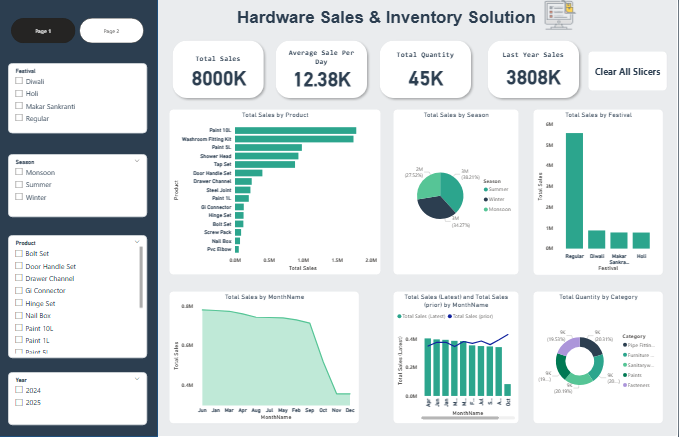

What the dashboard file says about the page in this screenshot:
{"tool":"powerbi","page":{"name":"Page 1","canvas":[1700,1100],"ordinal":0},"visuals":[{"type":"shape","box":[428.6,100,245.7,161.4],"z":0},{"type":"card","fields":{"Values":["Hradware Inventory.Total Sales"]},"box":[464.3,157.1,174.3,80],"z":1000},{"type":"shape","box":[0,0,400,1100],"z":2000},{"type":"textbox","box":[485.7,137.1,130,38.6],"z":3000},{"type":"shape","box":[685,100,246.7,161.7],"z":4000},{"type":"shape","box":[1215,100,246.7,161.7],"z":5000},{"type":"shape","box":[945,100,246.7,161.7],"z":6000},{"type":"card","fields":{"Values":["Hradware Inventory.Avg Sale Per Day"]},"box":[693.8,116.2,228.8,162.5],"z":7000},{"type":"textbox","box":[715,121.2,187.5,60],"z":8000},{"type":"card","fields":{"Values":["Hradware Inventory.Total Quantity"]},"box":[1001.2,156.2,133.8,81.2],"z":9000},{"type":"textbox","box":[982.9,128.6,171.4,55.7],"z":10000},{"type":"card","fields":{"Values":["Hradware Inventory.Sales LY"]},"box":[1237,146,202,102],"z":11000},{"type":"textbox","box":[1242,127,191,37],"z":12000},{"type":"clusteredBarChart","fields":{"Y":["Hradware Inventory.Total Sales"],"Category":["Hradware Inventory.Product"]},"box":[420,280,530,415],"z":13000},{"type":"pieChart","fields":{"Y":["Hradware Inventory.Total Sales"],"Category":["Hradware Inventory.Season"]},"box":[987.5,280,315,415],"z":14000},{"type":"clusteredColumnChart","fields":{"Y":["Hradware Inventory.Total Sales"],"Category":["Hradware Inventory.Festival"]},"box":[1338,280,326,416],"z":15000},{"type":"stackedAreaChart","fields":{"Category":["Date.MonthName"],"Y":["Hradware Inventory.Total Sales"]},"box":[428,736,476,332],"z":16000},{"type":"donutChart","fields":{"Y":["Hradware Inventory.Total Quantity"],"Category":["Hradware Inventory.Category"]},"box":[1338,736,326,332],"z":17000},{"type":"textbox","box":[526.2,20,886.2,165],"z":18000},{"type":"slicer","fields":{"Values":["Hradware Inventory.Festival"]},"box":[24,166,348,176],"z":19000},{"type":"slicer","fields":{"Values":["Hradware Inventory.Season"]},"box":[25,392.5,347.5,157.5],"z":20000},{"type":"slicer","fields":{"Values":["Hradware Inventory.Product"]},"box":[25,595,347.5,307.5],"z":21000},{"type":"slicer","fields":{"Values":["Date.Year"]},"box":[25,937.5,347.5,132.5],"z":22000},{"type":"image","box":[1337.5,0,137.5,88.8],"z":23000},{"type":"actionButton","box":[1476,134,198,100],"z":24000},{"type":"pageNavigator","box":[31.7,53.3,333.3,63.3],"z":25000},{"type":"lineStackedColumnComboChart","fields":{"Y":["Hradware Inventory.Total Sales (Latest)"],"Y2":["Hradware Inventory.Total Sales (prior)"],"Category":["Date.MonthName"]},"box":[950,735.7,352.9,331.4],"z":26000}]}

Visuals, with their boxes on the page's 1700x1100 design canvas (x1, y1, x2, y2). These are canvas units, not pixel positions in the 679x437 screenshot, which may show the page scaled, cropped or inside an application window:
shape: [left=429, top=100, right=674, bottom=261]
card - Hradware Inventory.Total Sales: [left=464, top=157, right=639, bottom=237]
shape: [left=0, top=0, right=400, bottom=1100]
textbox: [left=486, top=137, right=616, bottom=176]
shape: [left=685, top=100, right=932, bottom=262]
shape: [left=1215, top=100, right=1462, bottom=262]
shape: [left=945, top=100, right=1192, bottom=262]
card - Hradware Inventory.Avg Sale Per Day: [left=694, top=116, right=923, bottom=279]
textbox: [left=715, top=121, right=902, bottom=181]
card - Hradware Inventory.Total Quantity: [left=1001, top=156, right=1135, bottom=237]
textbox: [left=983, top=129, right=1154, bottom=184]
card - Hradware Inventory.Sales LY: [left=1237, top=146, right=1439, bottom=248]
textbox: [left=1242, top=127, right=1433, bottom=164]
clusteredBarChart - Hradware Inventory.Total Sales x Hradware Inventory.Product: [left=420, top=280, right=950, bottom=695]
pieChart - Hradware Inventory.Total Sales x Hradware Inventory.Season: [left=988, top=280, right=1302, bottom=695]
clusteredColumnChart - Hradware Inventory.Total Sales x Hradware Inventory.Festival: [left=1338, top=280, right=1664, bottom=696]
stackedAreaChart - Date.MonthName x Hradware Inventory.Total Sales: [left=428, top=736, right=904, bottom=1068]
donutChart - Hradware Inventory.Total Quantity x Hradware Inventory.Category: [left=1338, top=736, right=1664, bottom=1068]
textbox: [left=526, top=20, right=1412, bottom=185]
slicer - Hradware Inventory.Festival: [left=24, top=166, right=372, bottom=342]
slicer - Hradware Inventory.Season: [left=25, top=392, right=372, bottom=550]
slicer - Hradware Inventory.Product: [left=25, top=595, right=372, bottom=902]
slicer - Date.Year: [left=25, top=938, right=372, bottom=1070]
image: [left=1338, top=0, right=1475, bottom=89]
actionButton: [left=1476, top=134, right=1674, bottom=234]
pageNavigator: [left=32, top=53, right=365, bottom=117]
lineStackedColumnComboChart - Hradware Inventory.Total Sales (Latest) x Hradware Inventory.Total Sales (prior): [left=950, top=736, right=1303, bottom=1067]
